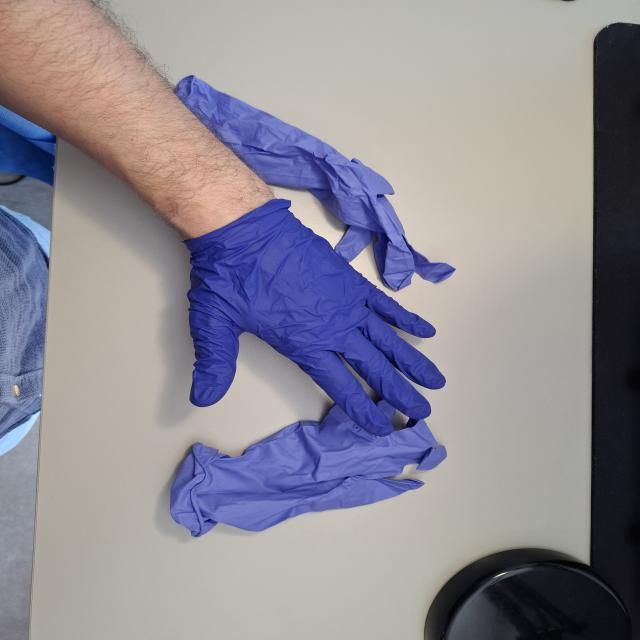glove_on: (175, 199, 451, 438)
